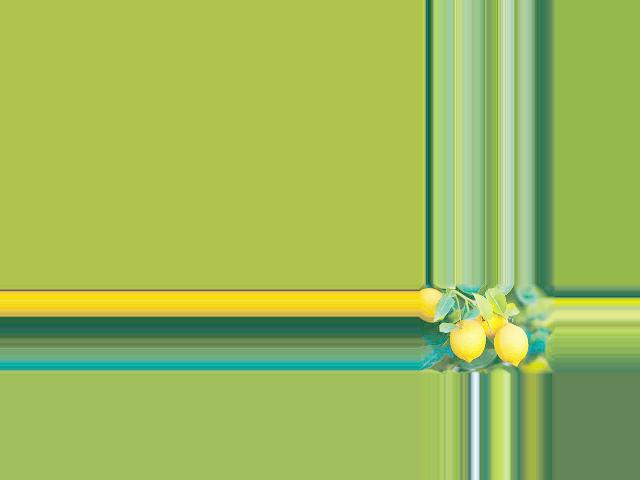lemon: (495, 321, 528, 364)
